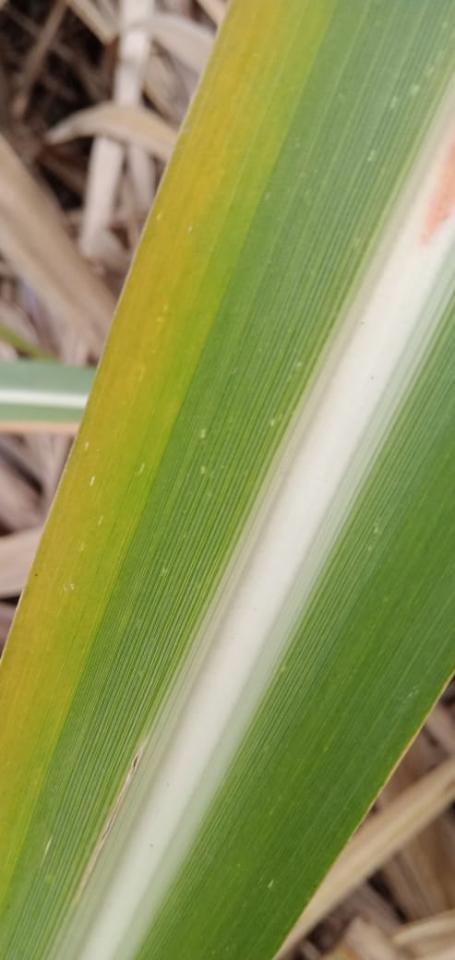RedRot: (419, 142, 454, 247)
Yellow: (0, 0, 275, 798)
